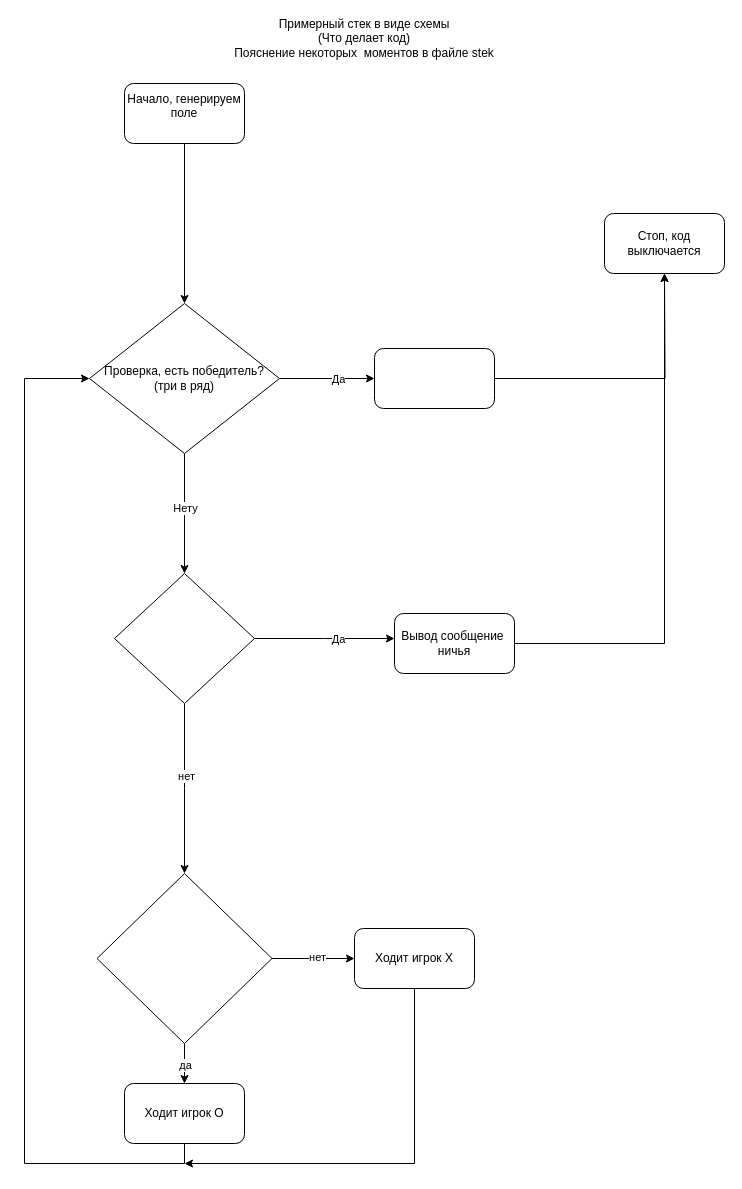
The diagram is 742 pixels wide and 1189 high, and some of its shapes have lost their labels. Here are the shapes that lost their labels. From the top down, the centre of each, then its label:
[434,378]: Вывод сообщение о победе
[184,638]: Поле заполнено?
[184,958]: Игрок Х ходил?
